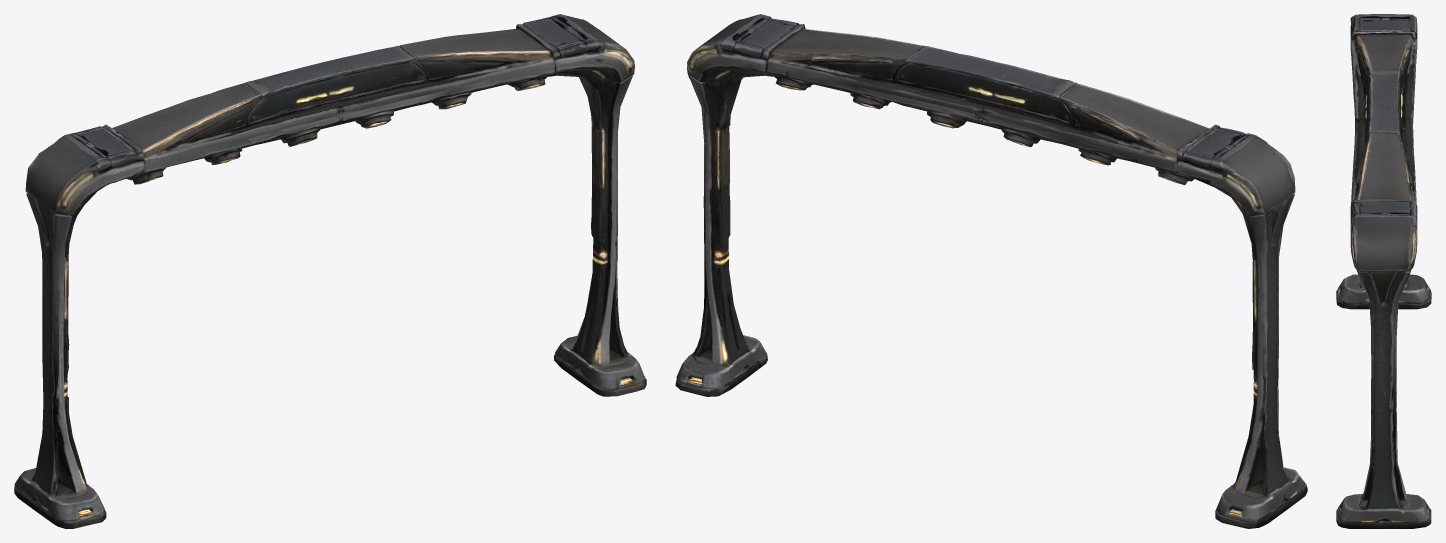
Rendered from sign-c.glb.
The picture shows the model from 3 angles, left to right: view 1: azimuth 30°, elevation 25°; view 2: azimuth 150°, elevation 25°; view 3: azimuth 270°, elevation 25°; orthographic projection. The views are drawn at different scales.
Parts seen in each view (by area): view 1: SM_sign_c; view 2: SM_sign_c; view 3: SM_sign_c.
Boxes of the visible parts, left/top/right/bottom form: SM_sign_c: left=14, top=14, right=646, bottom=528; SM_sign_c: left=675, top=14, right=1307, bottom=528; SM_sign_c: left=1336, top=14, right=1431, bottom=528.
Size of the model in its own units: 0.9801 by 0.5903 by 0.1646.
Materials: 1 (1 with a texture image).
